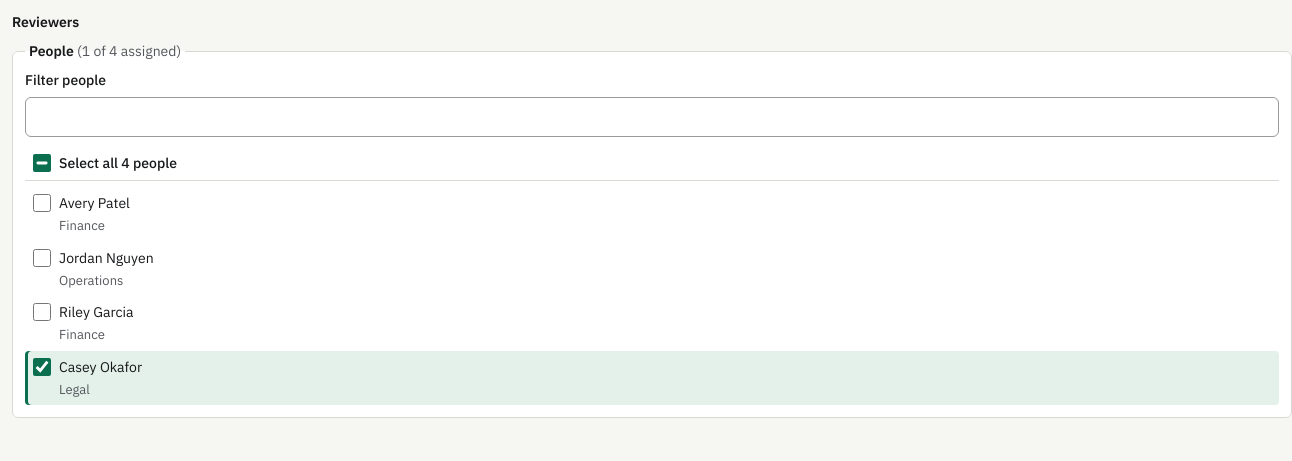
TransferList › assigns immediately in checklist layout
expect the checkbox labelled "Casey Okafor Legal" is checked: met, box top-left (33, 358), bottom-right (51, 376)
What coordinates should you click on to do the following:
click the checkbox labelled "Jordan Nguyen Operations"
I would click on:
 (42, 258)
Its box is top-left (33, 248), bottom-right (51, 266).
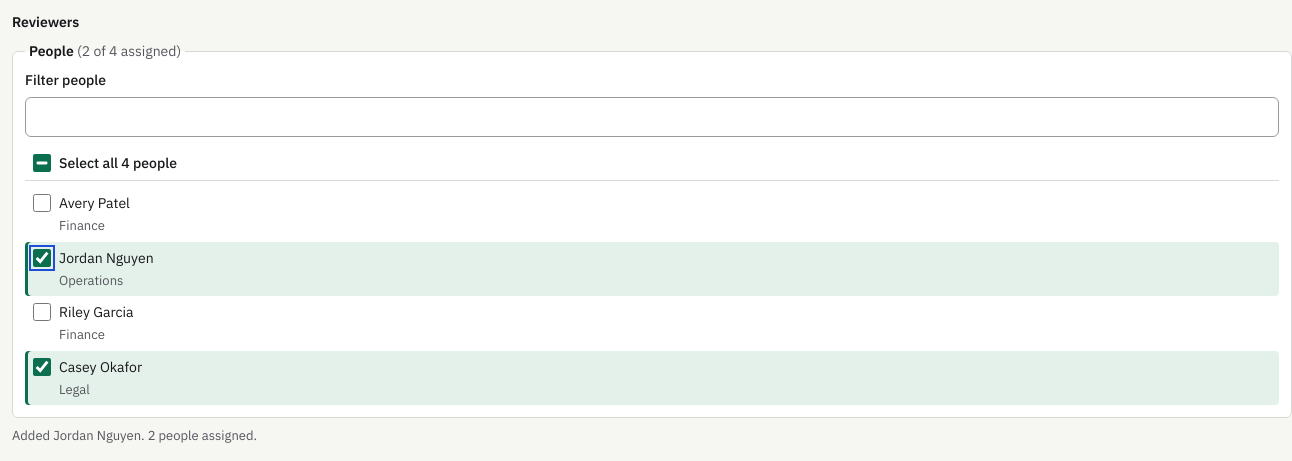
expect the message reads "Added Jordan Nguyen. 2 people assigned.": met, box top-left (12, 427), bottom-right (257, 444)
expect the element "People (2 of 4 assigned)" is shown: met
